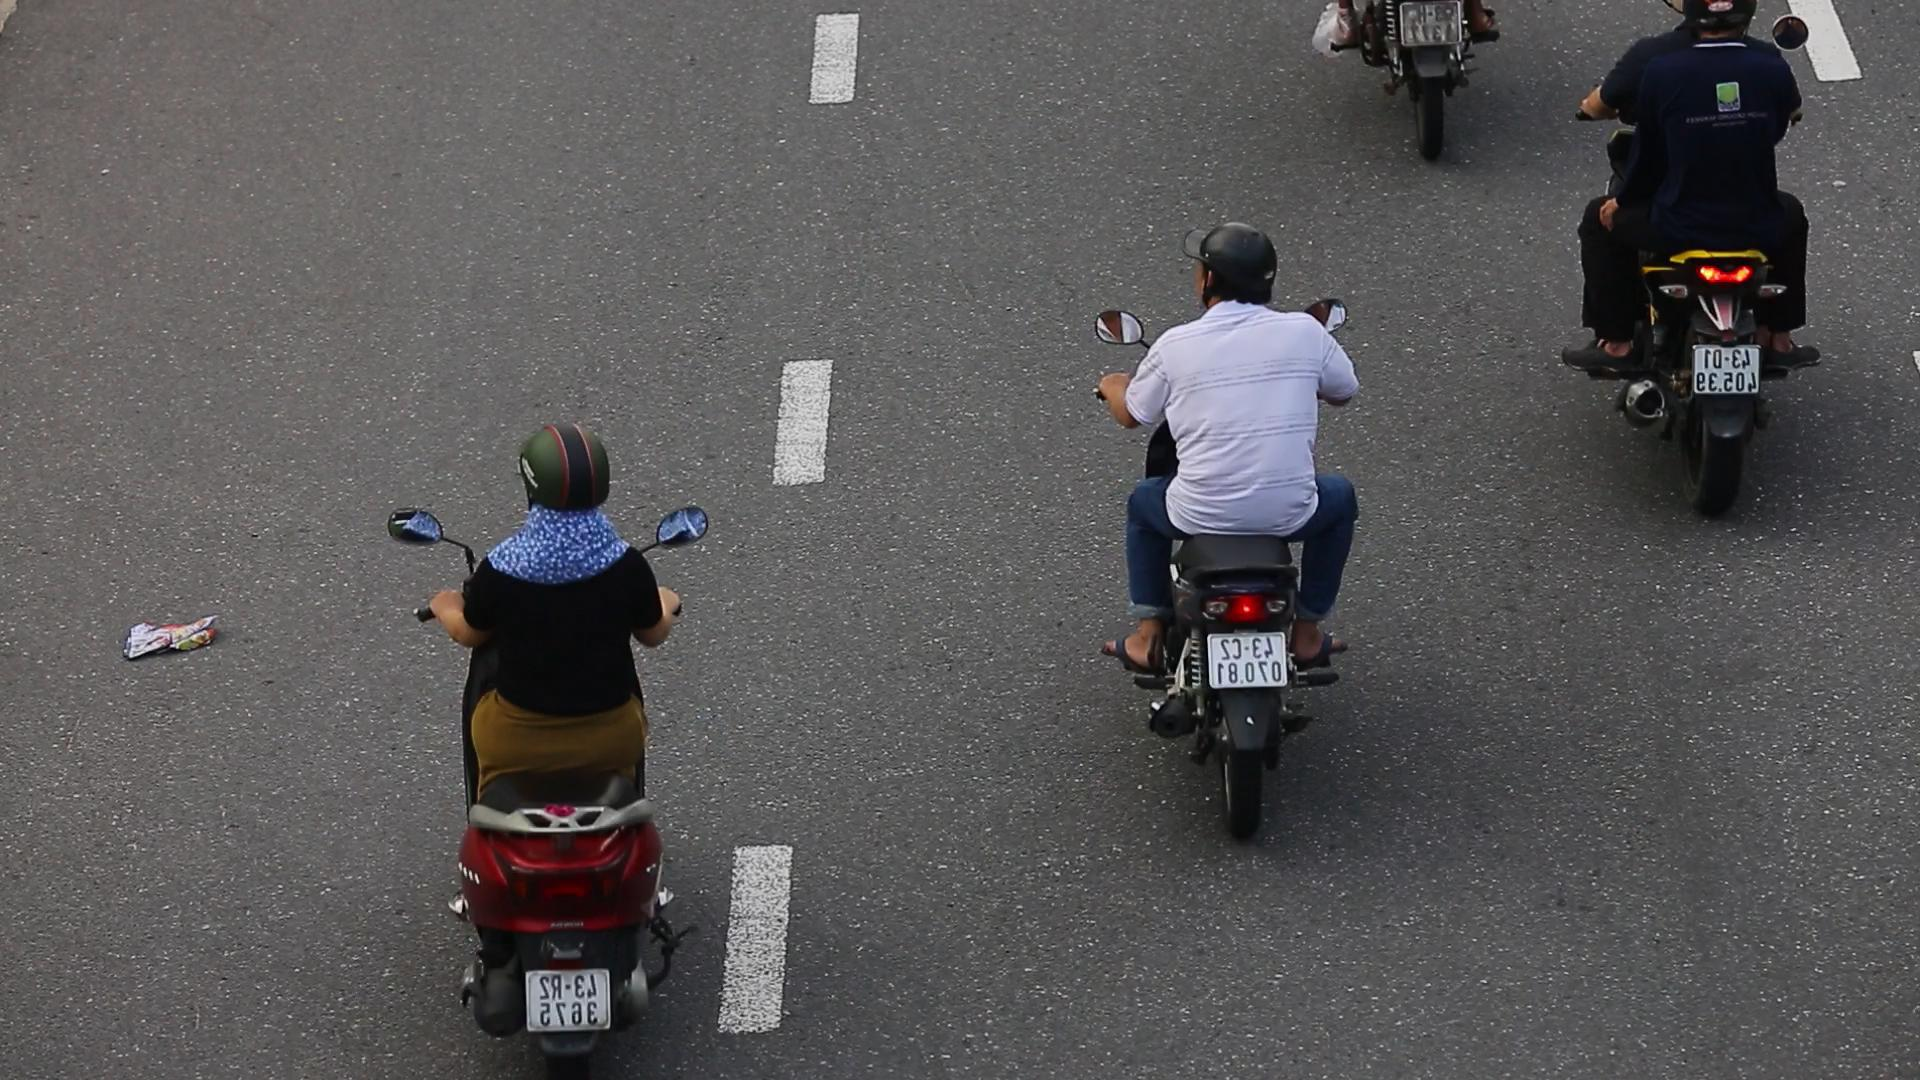motobike: (364, 401, 729, 1080), (1084, 204, 1371, 848)
